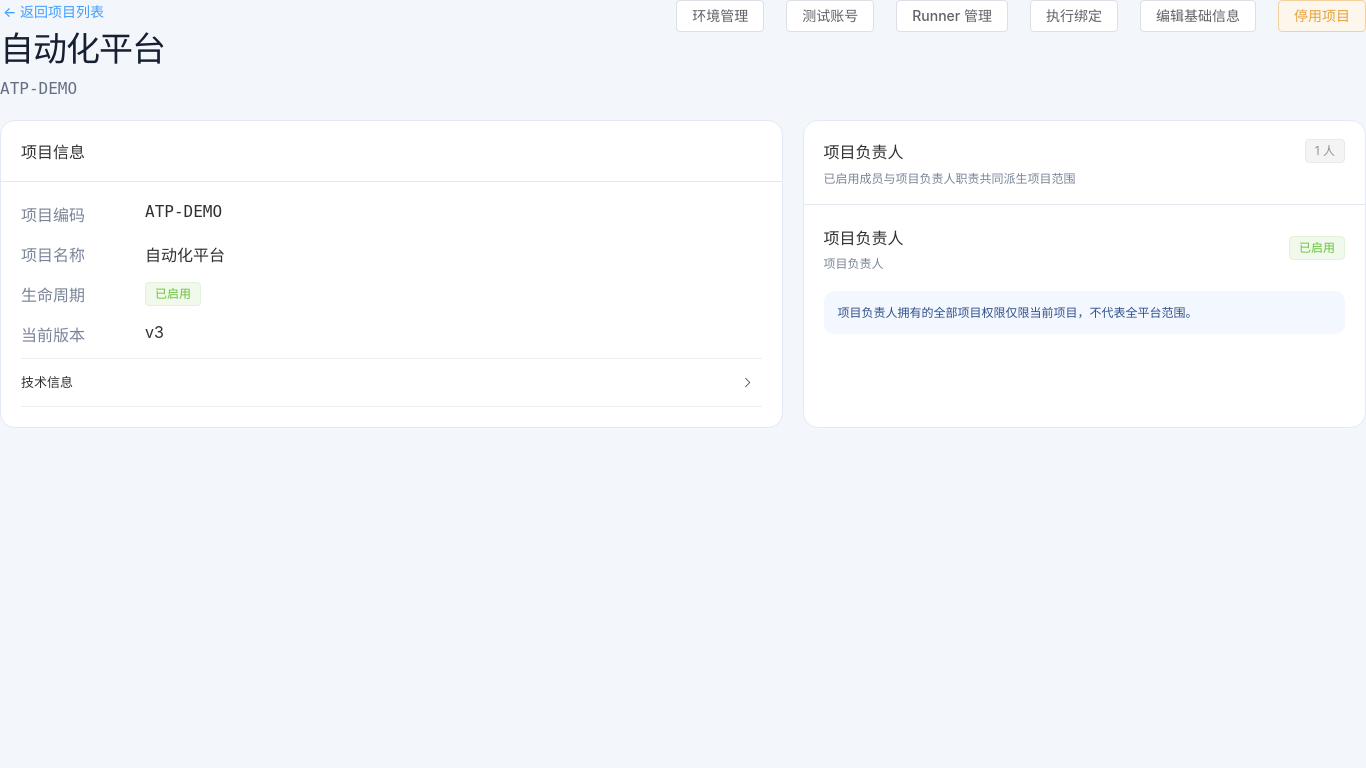
Test: 项目管理页面（组件测试，API 为 mock） › renders owner and lifecycle state, then persists an authorized edit
Expected: the heading "自动化平台" is shown, [0, 22, 165, 71]
Click the button "编辑基础信息". click: (1198, 16)
box: [1140, 0, 1256, 32]
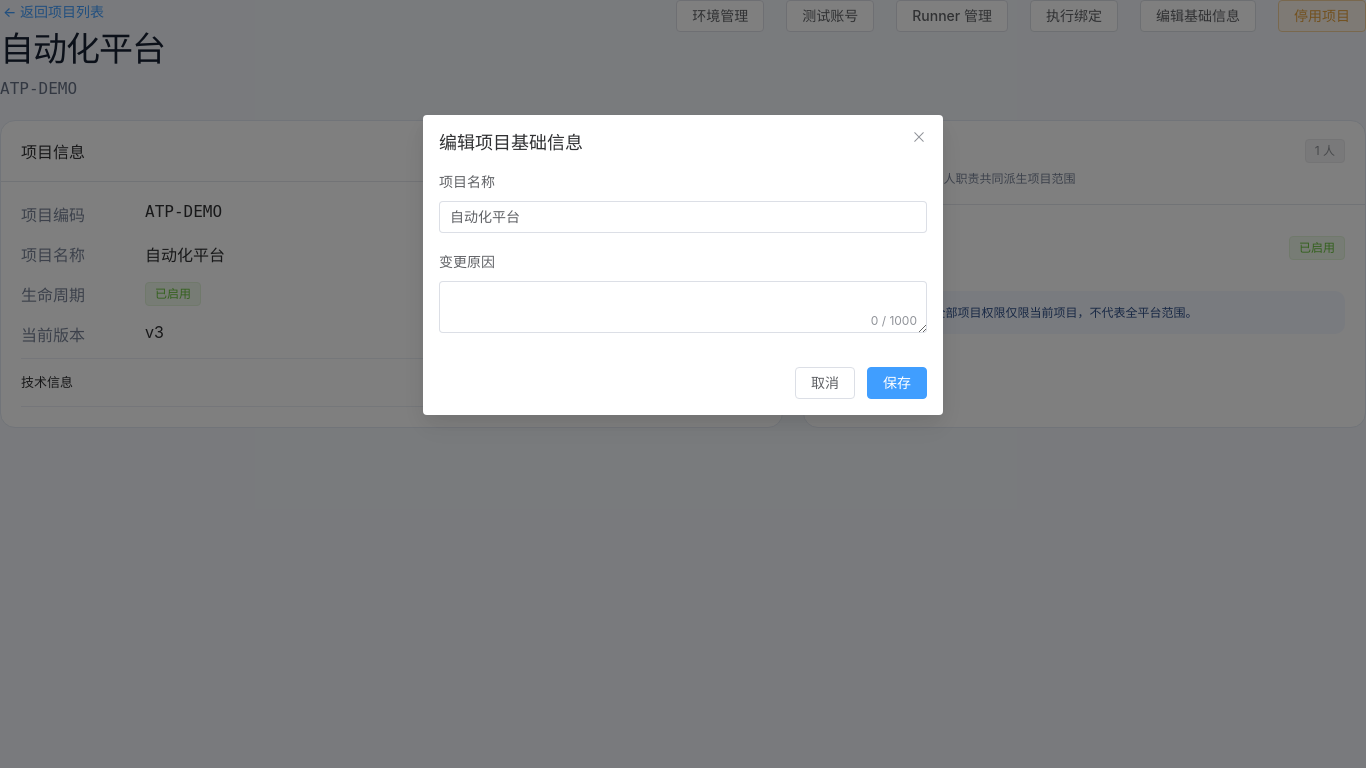
Replace the text in the field labelled "项目名称" with "自动化平台二期". click: (683, 217)
box: [450, 202, 916, 232]
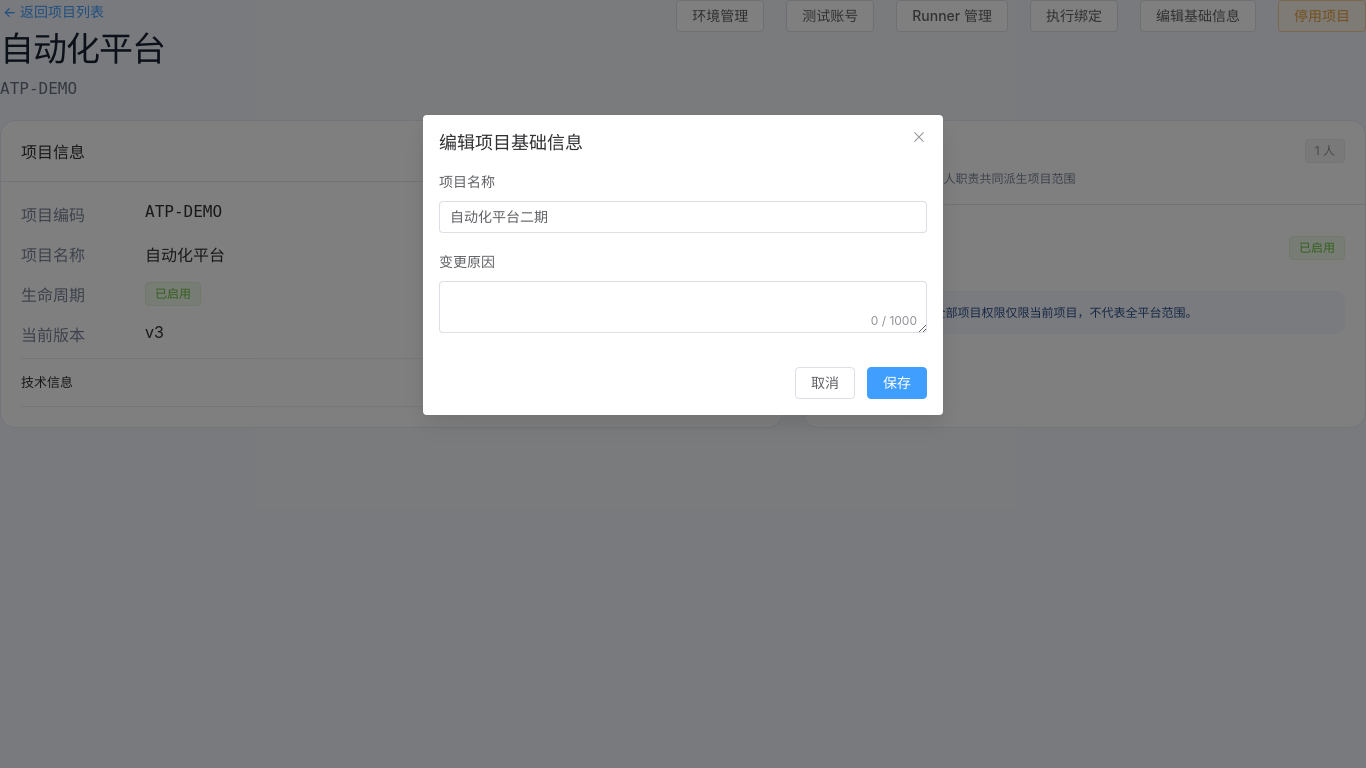
Click the button "保存". click: (897, 383)
box: [867, 367, 927, 399]
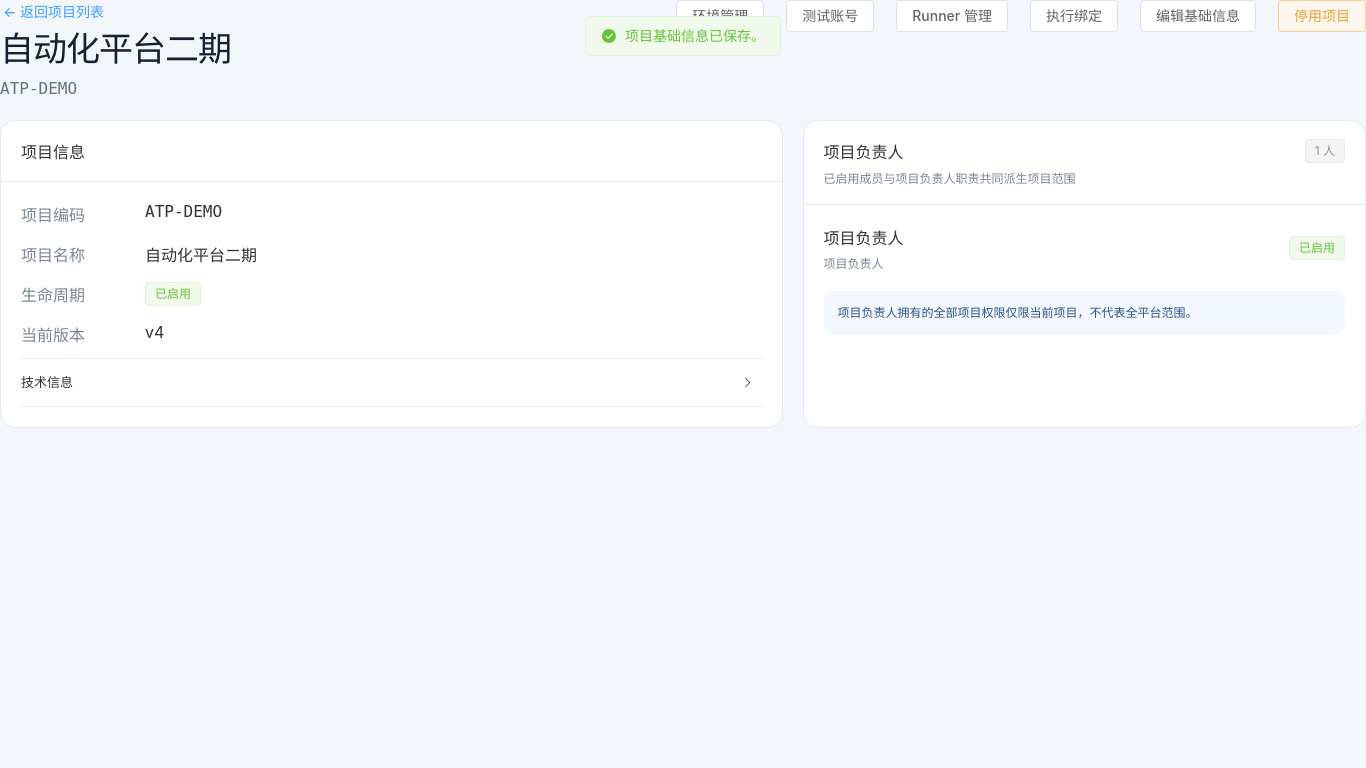
Now the heading "自动化平台二期" is shown, box [0, 22, 231, 71]
